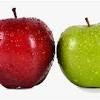apple: (56, 18, 100, 89)
